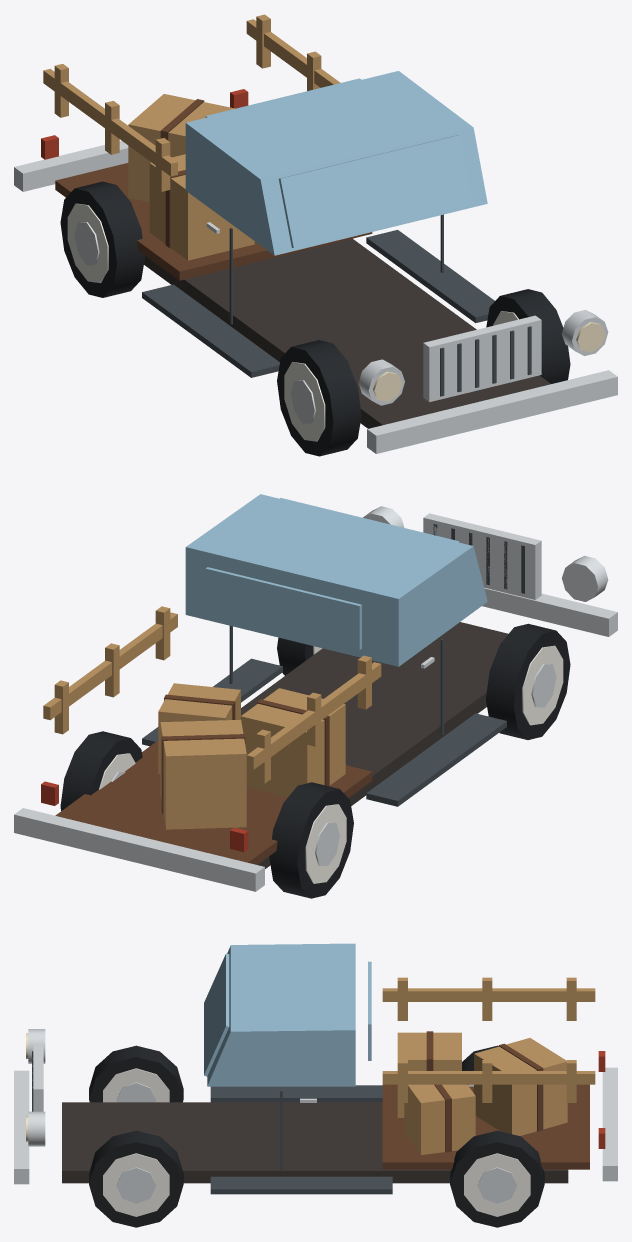
Rendered from Town_CarPickup.fbx.
The picture shows the model from 3 angles, top to bottom: view 1: azimuth 30°, elevation 25°; view 2: azimuth 150°, elevation 25°; view 3: azimuth 270°, elevation 25°; orthographic projection. The views are drawn at different scales.
Parts seen in each view (by area): view 1: Decor, DecorGlassSkyblue, DecorNeonCream, DecorNeonRust; view 2: Decor, DecorGlassSkyblue, DecorNeonRust; view 3: Decor, DecorGlassSkyblue.
Part boxes in pixels (<box>): Decor: <box>14,14,617,456</box>; DecorGlassSkyblue: <box>185,71,487,255</box>; DecorNeonCream: <box>373,322,605,401</box>; DecorNeonRust: <box>41,89,248,159</box>; Decor: <box>14,506,617,898</box>; DecorGlassSkyblue: <box>185,494,487,666</box>; DecorNeonRust: <box>41,781,248,852</box>; Decor: <box>14,977,617,1227</box>; DecorGlassSkyblue: <box>204,943,371,1086</box>.
Bounding box in the file's own units: 7.3 × 6.85 × 17.9.
